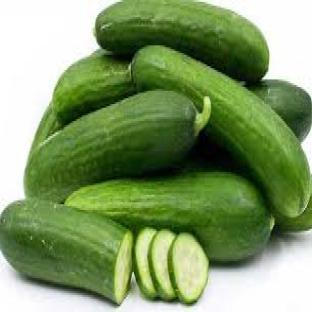Cucumber: (132, 46, 309, 217), (25, 91, 210, 202), (66, 171, 274, 262), (0, 201, 132, 304), (54, 52, 135, 124), (248, 80, 311, 139), (168, 233, 208, 304), (149, 229, 175, 300), (133, 227, 157, 298), (30, 103, 61, 155), (277, 197, 311, 232)
